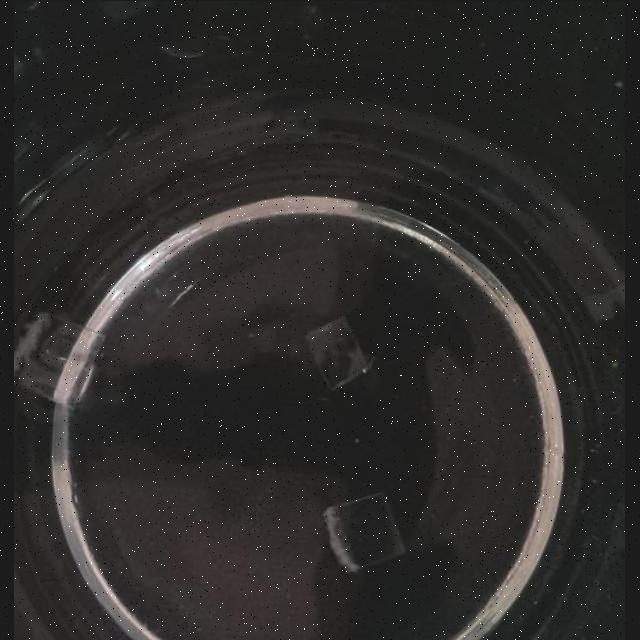Film: (15, 305, 101, 409), (324, 488, 408, 574), (305, 314, 373, 392)
